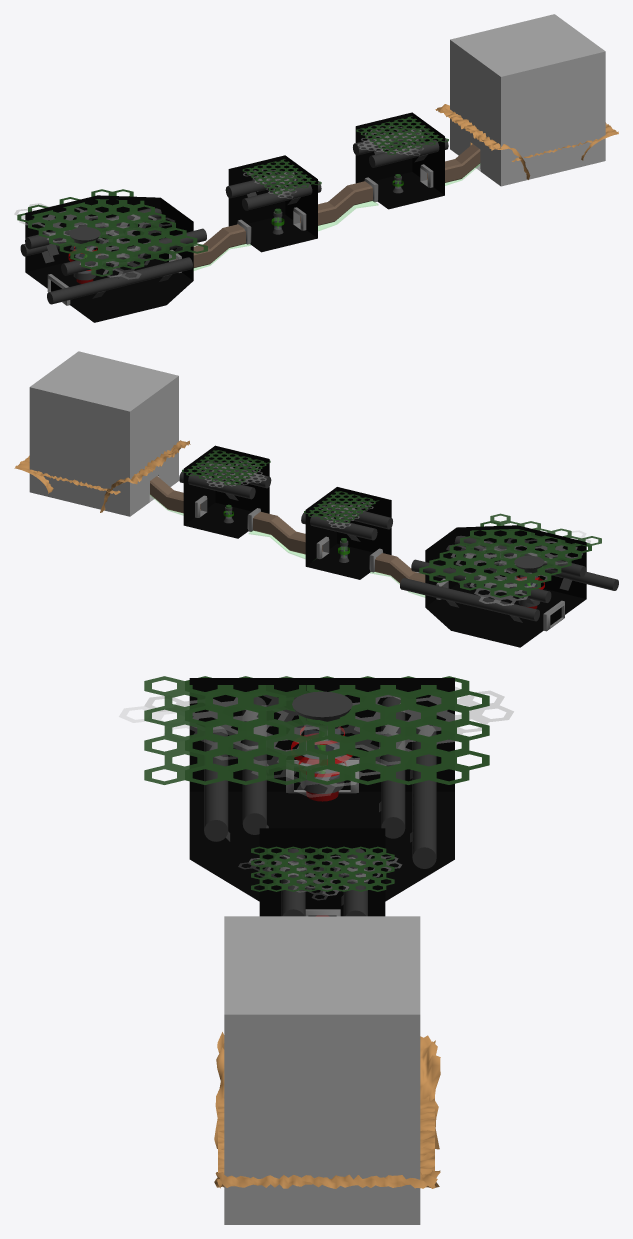
The model's file is lastStage_clean.fbx.
3 views of the same model, one above another, from view 1: azimuth 30°, elevation 25°; view 2: azimuth 150°, elevation 25°; view 3: azimuth 270°, elevation 25° (orthographic). The views are drawn at different scales.
Parts seen in each view (by area): view 1: texture1, room3, room2, room1, startMap, obj3; view 2: texture1, room3, room2, room1, startMap, obj3, door4; view 3: texture1, room3, room2, startMap, obj3, door4.
Boxes of the visible parts, <box> form: texture1: <box>450,14,605,186</box>; room3: <box>14,189,250,322</box>; room2: <box>225,155,378,252</box>; room1: <box>353,112,480,209</box>; startMap: <box>435,104,618,179</box>; obj3: <box>68,227,100,283</box>; texture1: <box>29,351,178,516</box>; room3: <box>370,513,618,647</box>; room2: <box>249,487,392,579</box>; room1: <box>150,445,271,538</box>; startMap: <box>14,440,190,512</box>; obj3: <box>514,555,544,608</box>; door4: <box>543,600,564,631</box>; texture1: <box>224,916,420,1224</box>; room3: <box>119,676,513,901</box>; room2: <box>238,828,401,916</box>; startMap: <box>214,1032,440,1188</box>; obj3: <box>291,691,352,801</box>; door4: <box>286,760,358,793</box>.
Bounding box in the file's own units: 89 × 20.79 × 27.88.
